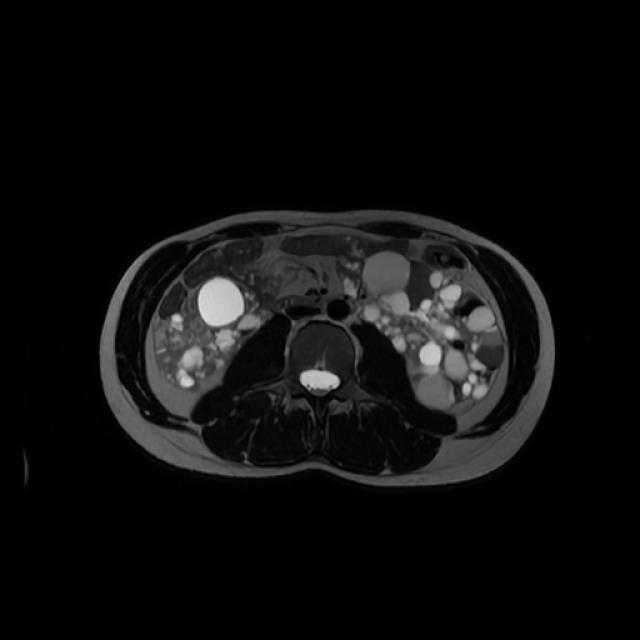sag: (151, 276, 278, 392)
sol: (358, 250, 505, 414)
